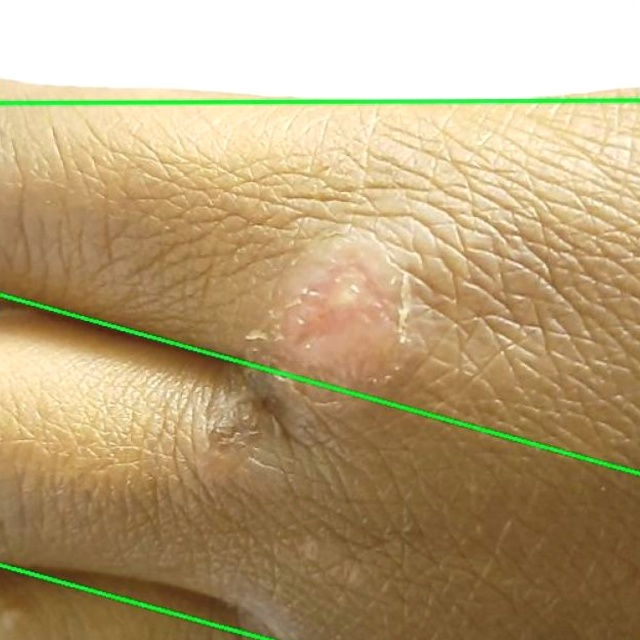Eczema: (0, 295, 639, 639), (0, 0, 639, 102)
